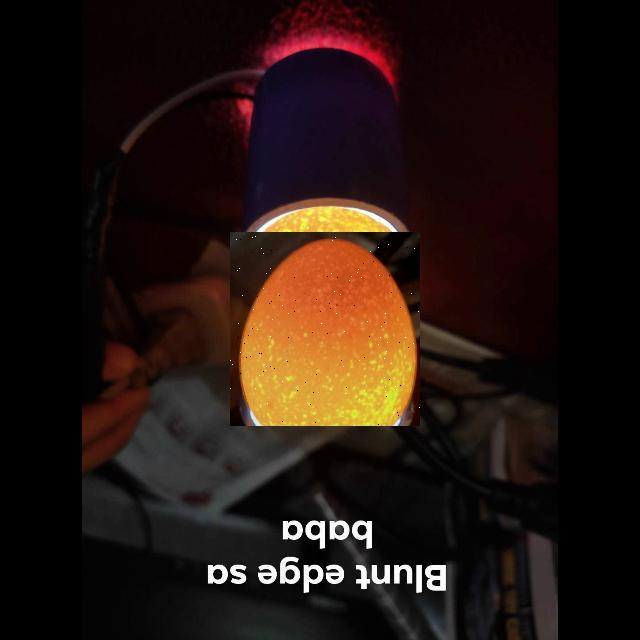Infertile: (230, 232, 420, 426)
